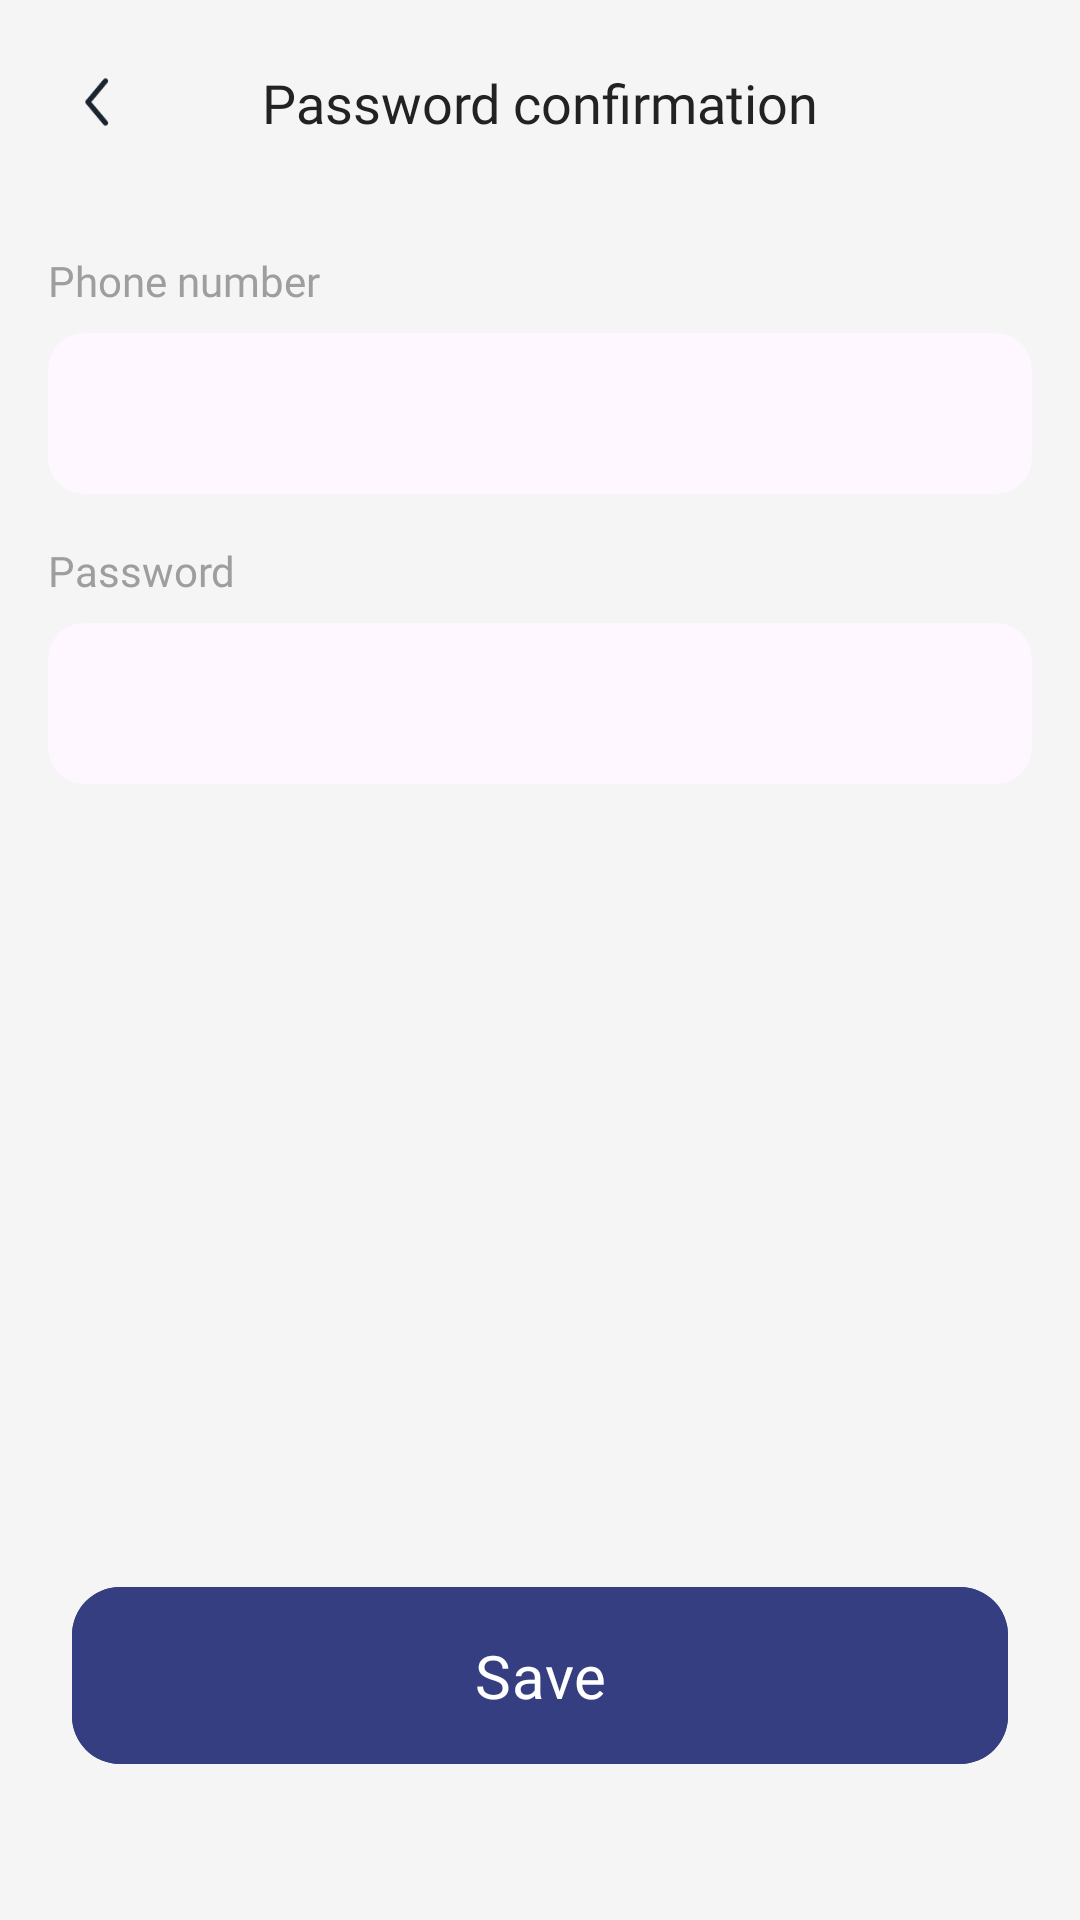

Locate icon controls on the screen. Image size 1080w x 1920h, boxes as (x1, y1, x2, y2).
back: (85, 78, 108, 126)
